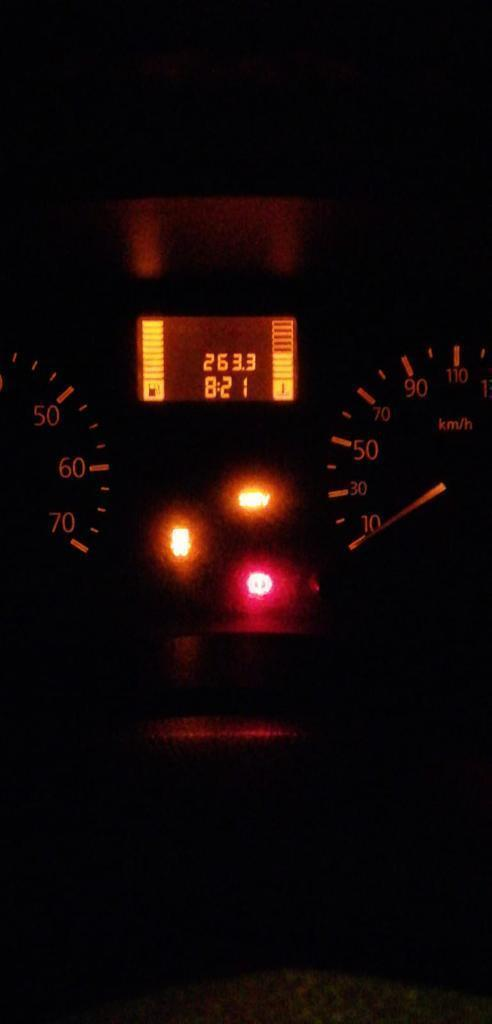,: (241, 366, 245, 371)
1: (241, 374, 249, 399)
2: (220, 375, 232, 399), (202, 352, 214, 371)
3: (245, 351, 256, 371), (231, 352, 241, 371)
6: (216, 351, 229, 371)
8: (204, 375, 216, 398)
X: (216, 381, 220, 391)
odometer: (132, 312, 300, 407)
